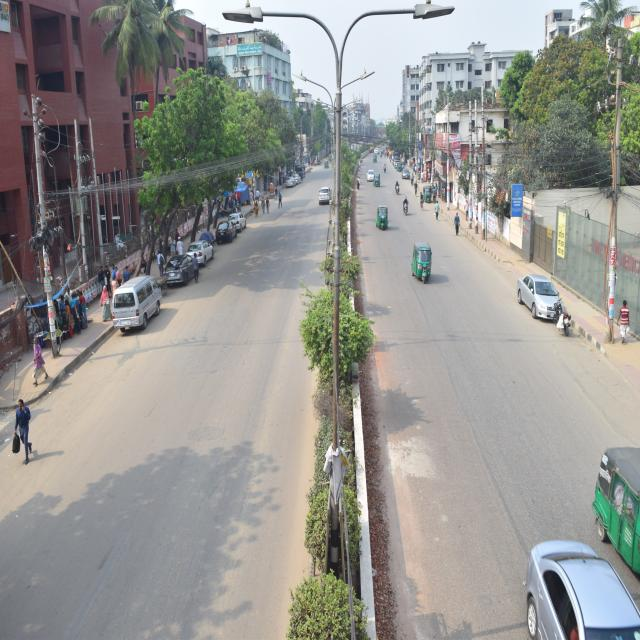car: (516, 269, 564, 317), (166, 258, 193, 285), (207, 222, 234, 239), (225, 207, 245, 229), (186, 244, 209, 262), (317, 188, 334, 209), (364, 169, 378, 180), (286, 177, 297, 185)
microbus: (86, 264, 183, 332)
motorbike: (547, 289, 573, 331), (392, 180, 403, 198), (404, 200, 411, 214)
